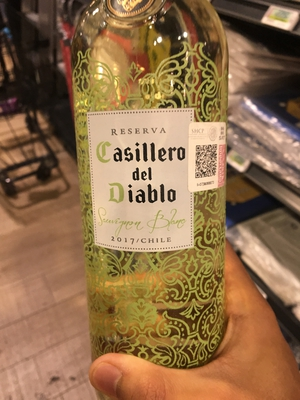casillero del diablo sauvignon blanc: (65, 10, 252, 394)
